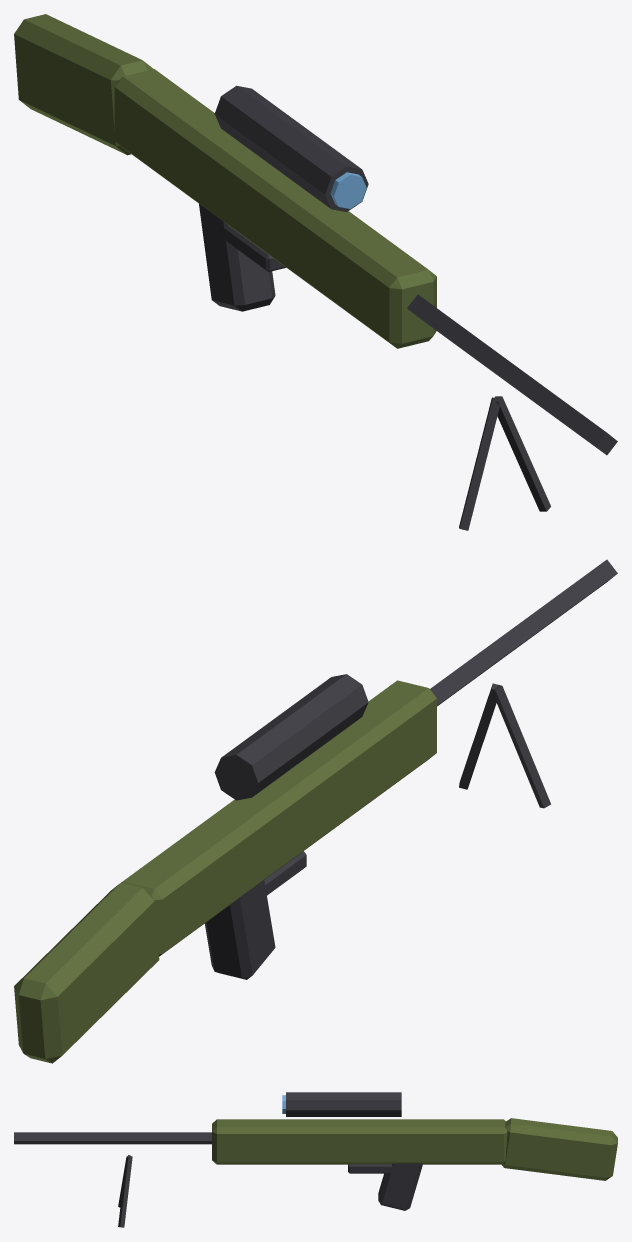
File: SniperRifle.fbx
3 views of the same model, one above another, from view 1: azimuth 30°, elevation 25°; view 2: azimuth 150°, elevation 25°; view 3: azimuth 270°, elevation 25° (orthographic). The views are drawn at different scales.
Parts seen in each view (by area): view 1: SniperRifle; view 2: SniperRifle; view 3: SniperRifle.
Boxes of the visible parts, x1=… form: SniperRifle: x1=14, y1=14, x2=617, y2=530; SniperRifle: x1=14, y1=559, x2=617, y2=1063; SniperRifle: x1=14, y1=1092, x2=617, y2=1227.
Bounding box in the file's own units: 0.6706 × 1.67 × 7.32.
1 material, 1 textured.
